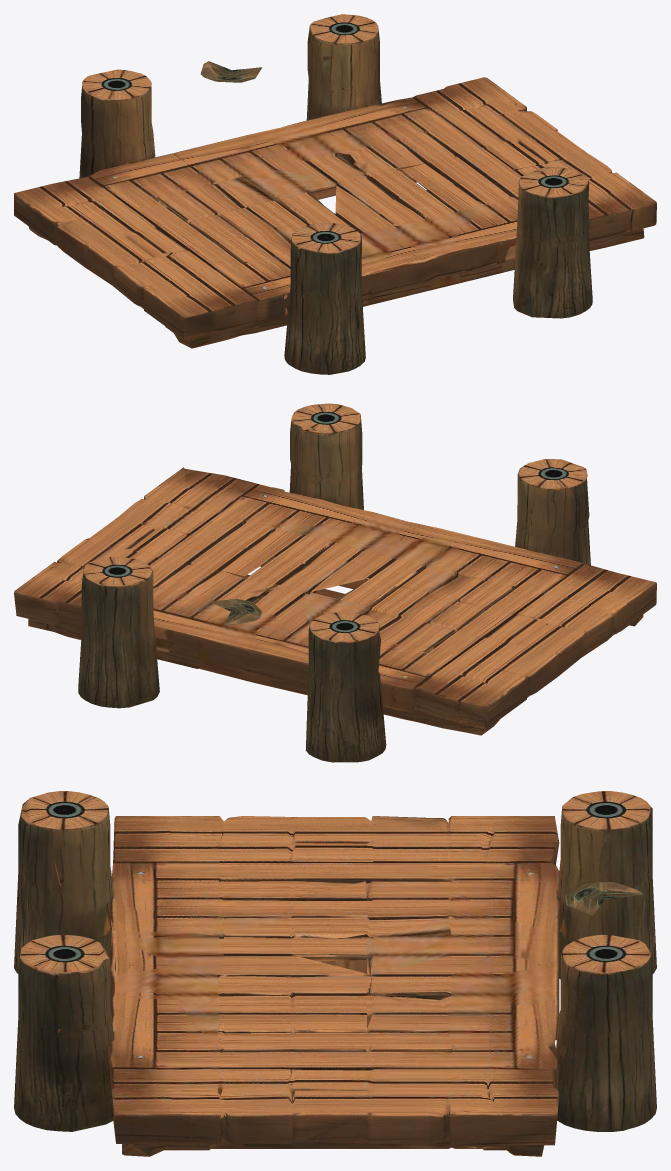
The model's file is dock.glb.
The picture shows the model from 3 angles, top to bottom: view 1: azimuth 30°, elevation 25°; view 2: azimuth 150°, elevation 25°; view 3: azimuth 270°, elevation 25°; orthographic projection. The views are drawn at different scales.
Visible parts, largest first — view 1: 0; view 2: 0; view 3: 0.
Boxes of the visible parts, x1,y1,x2,y2 form: 0: (14, 14, 656, 374); 0: (14, 403, 656, 762); 0: (14, 791, 656, 1156).
Size of the model in its own units: 1.91 by 0.4658 by 1.73.
Materials: 1 (1 with a texture image).
